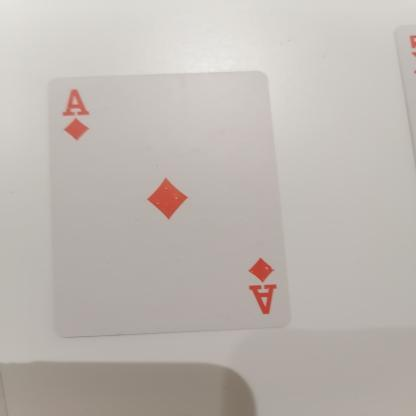AD: (59, 78, 110, 148), (232, 249, 283, 317)
